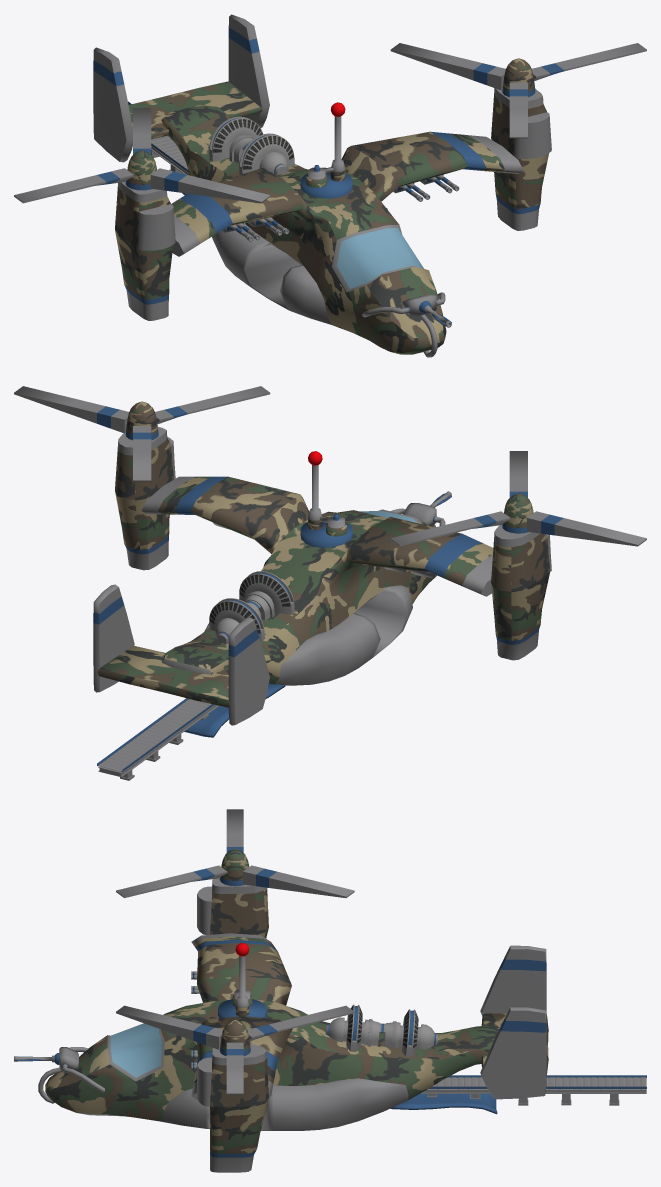
The model's file is Aircraft.fbx.
3 views of the same model, one above another, from view 1: azimuth 30°, elevation 25°; view 2: azimuth 150°, elevation 25°; view 3: azimuth 270°, elevation 25° (orthographic). The views are drawn at different scales.
Parts seen in each view (by area): view 1: Aircraft, Switcher, R_wing, L_wing, Shield_generator, antenna, guns, lasergun_body, conveyor; view 2: Aircraft, Switcher, R_wing, L_wing, conveyor, Shield_generator, antenna, door, lasergun_body; view 3: Aircraft, Switcher, R_wing, L_wing, conveyor, Shield_generator, antenna, door, lasergun_body.
Part boxes in pixels (box(x1,y1,x2,y2)): Aircraft: box(93, 14, 523, 354); Switcher: box(115, 88, 551, 320); R_wing: box(390, 43, 646, 138); L_wing: box(14, 108, 270, 203); Shield_generator: box(209, 116, 294, 175); antenna: box(300, 102, 352, 198); guns: box(222, 175, 459, 241); lasergun_body: box(362, 292, 445, 357); conveyor: box(128, 101, 189, 175); Aircraft: box(93, 476, 493, 725); Switcher: box(115, 427, 551, 660); R_wing: box(14, 386, 270, 481); L_wing: box(390, 451, 646, 546); conveyor: box(97, 698, 219, 780); Shield_generator: box(209, 571, 294, 643); antenna: box(300, 451, 352, 547); door: box(184, 683, 285, 737); lasergun_body: box(391, 503, 445, 527); Aircraft: box(45, 933, 548, 1130); Switcher: box(197, 878, 268, 1172); R_wing: box(116, 1005, 354, 1094); L_wing: box(116, 809, 354, 897); conveyor: box(420, 1075, 646, 1105); Shield_generator: box(325, 1004, 437, 1056); antenna: box(218, 943, 266, 1017); door: box(390, 1094, 497, 1114); lasergun_body: box(38, 1047, 104, 1103).
Bounding box in the file's own units: 3830 × 1094 × 3611.
